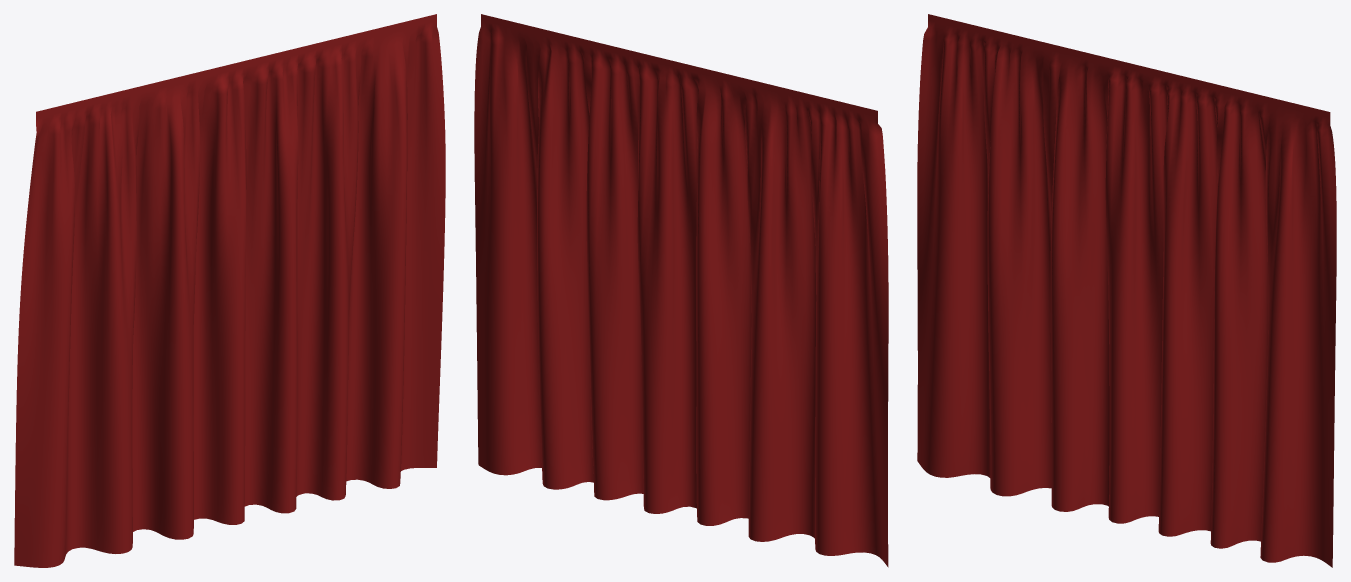
File: unfolded_curtain.glb
3 views of the same model, side by side, from view 1: azimuth 30°, elevation 25°; view 2: azimuth 150°, elevation 25°; view 3: azimuth 330°, elevation 25° (orthographic).
Size of the model in its own units: 2.48 by 2.54 by 0.2217.
